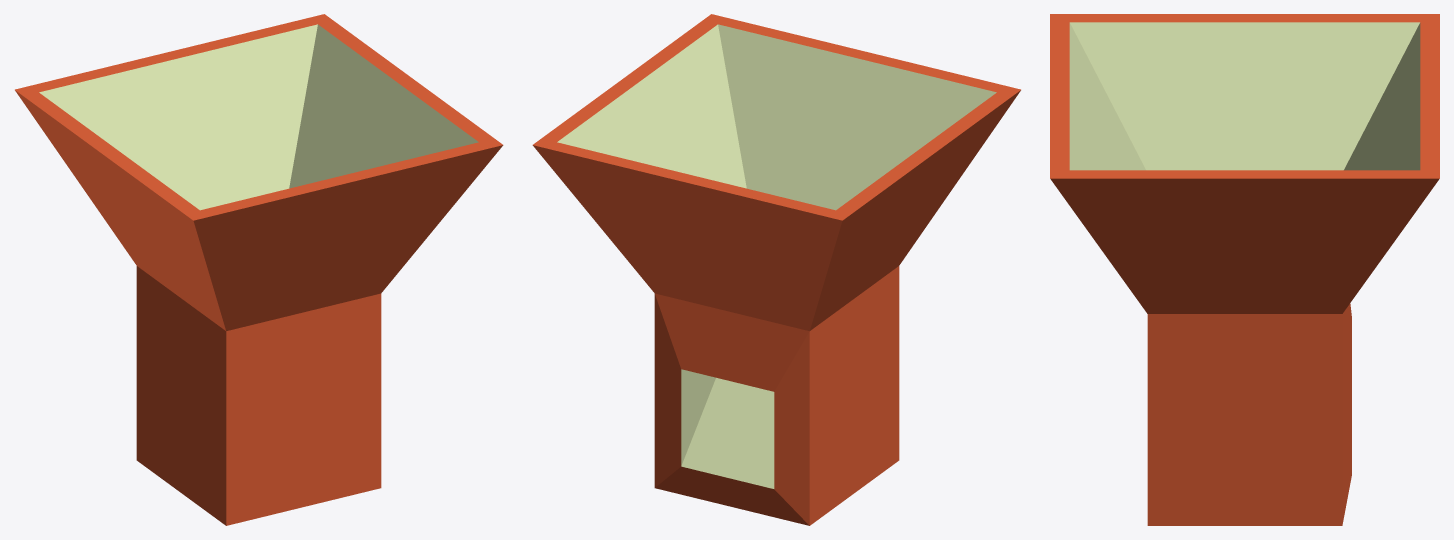
File: shute.glb
The picture shows the model from 3 angles, left to right: view 1: azimuth 30°, elevation 25°; view 2: azimuth 150°, elevation 25°; view 3: azimuth 270°, elevation 25°; orthographic projection. The views are drawn at different scales.
Visible parts, largest first — view 1: Core; view 2: Core; view 3: Core.
Boxes of the visible parts, x1,y1,x2,y2 form: Core: (15,14,503,525); Core: (532,14,1020,525); Core: (1050,14,1439,525).
Bounding box in the file's own units: 4 × 4.4 × 4.
